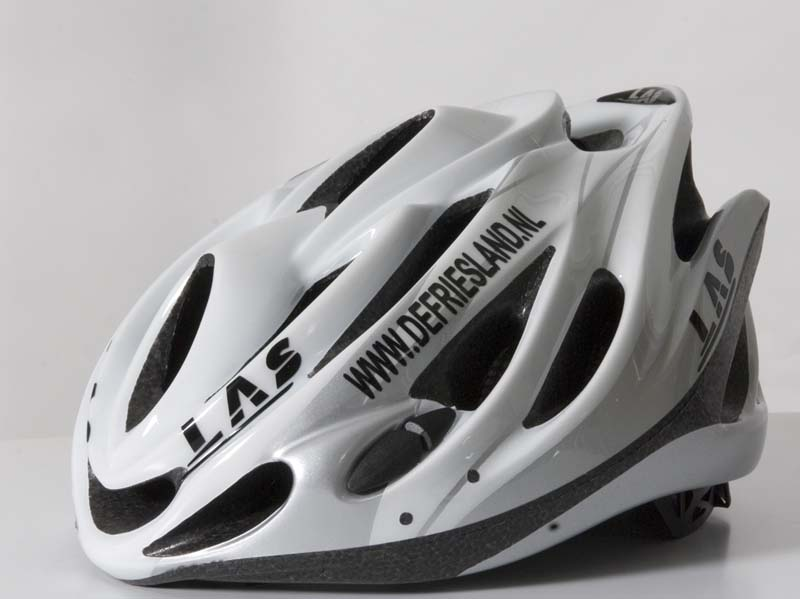helmet: (82, 143, 765, 537)
